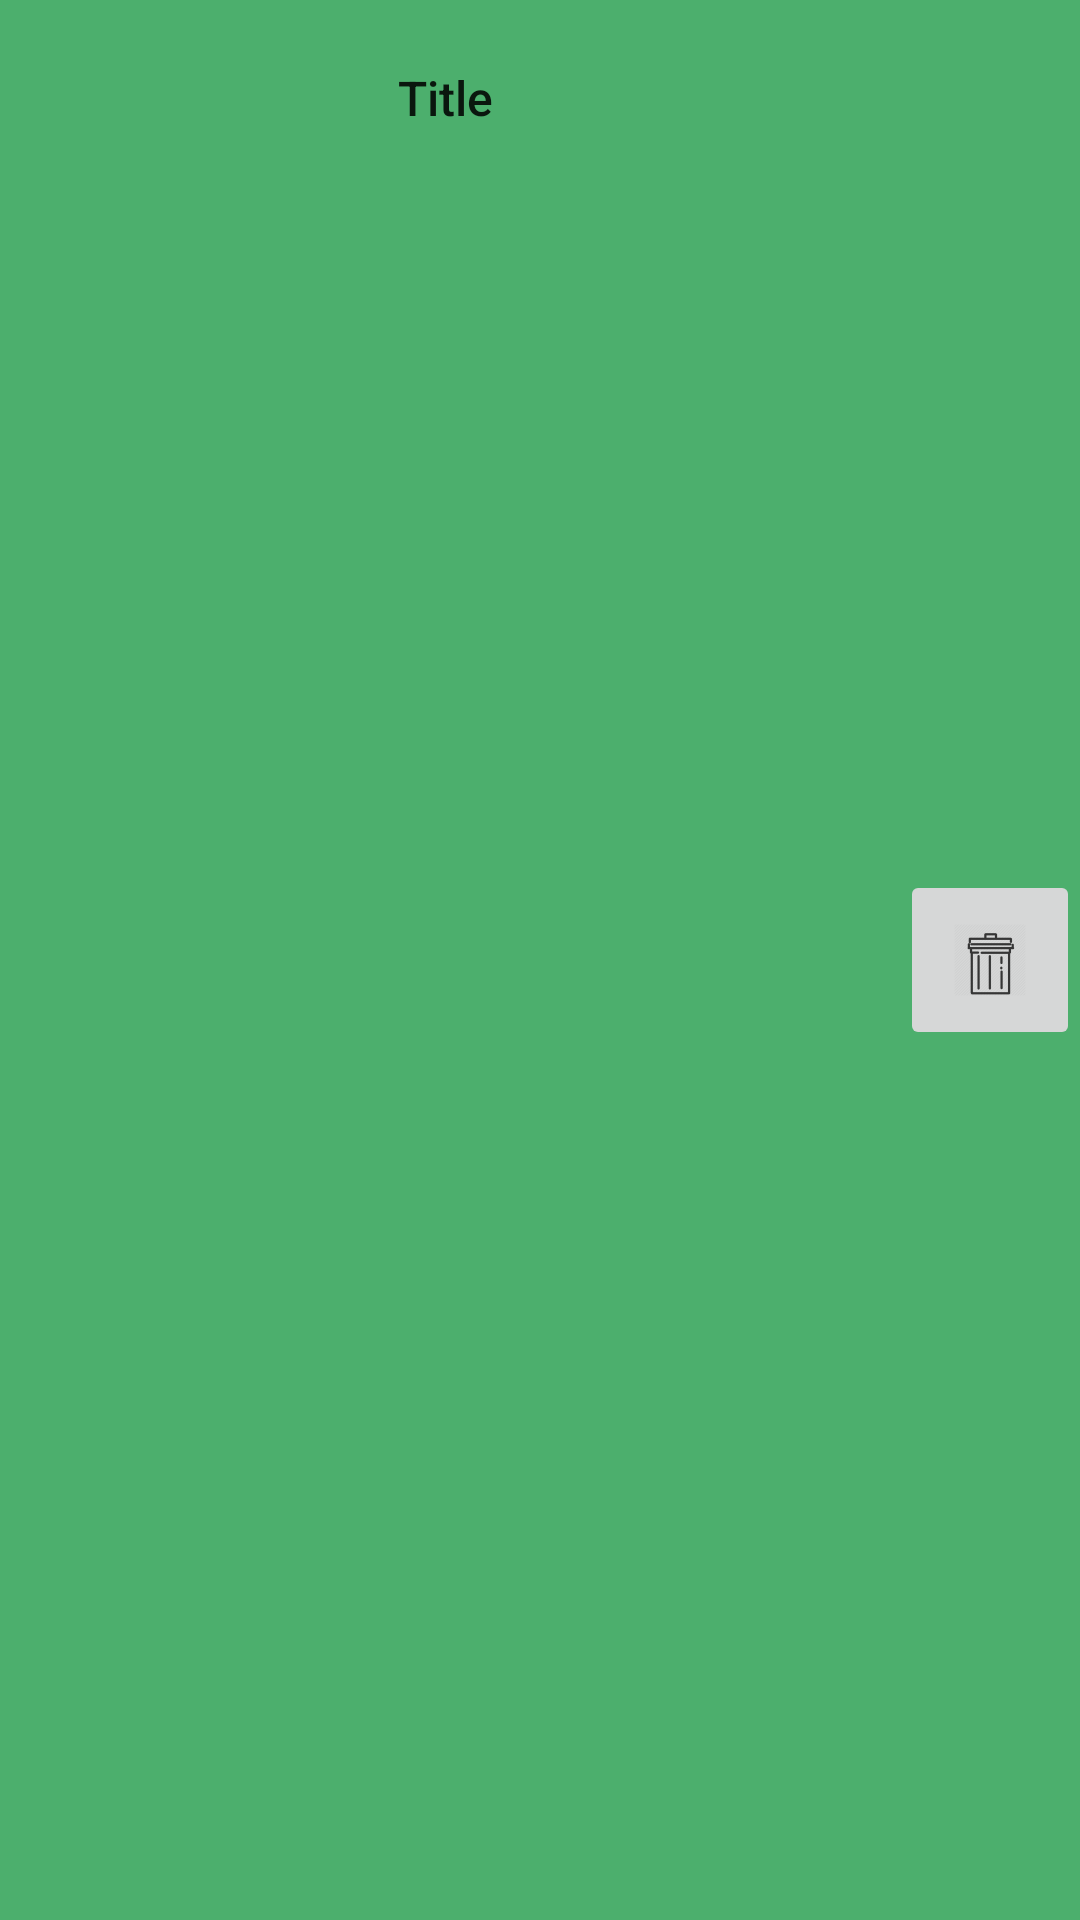

Icons on this 1080w x 1920h Android screen, each with the point to tap as (x=x, y=y):
delete: (x=990, y=960)
